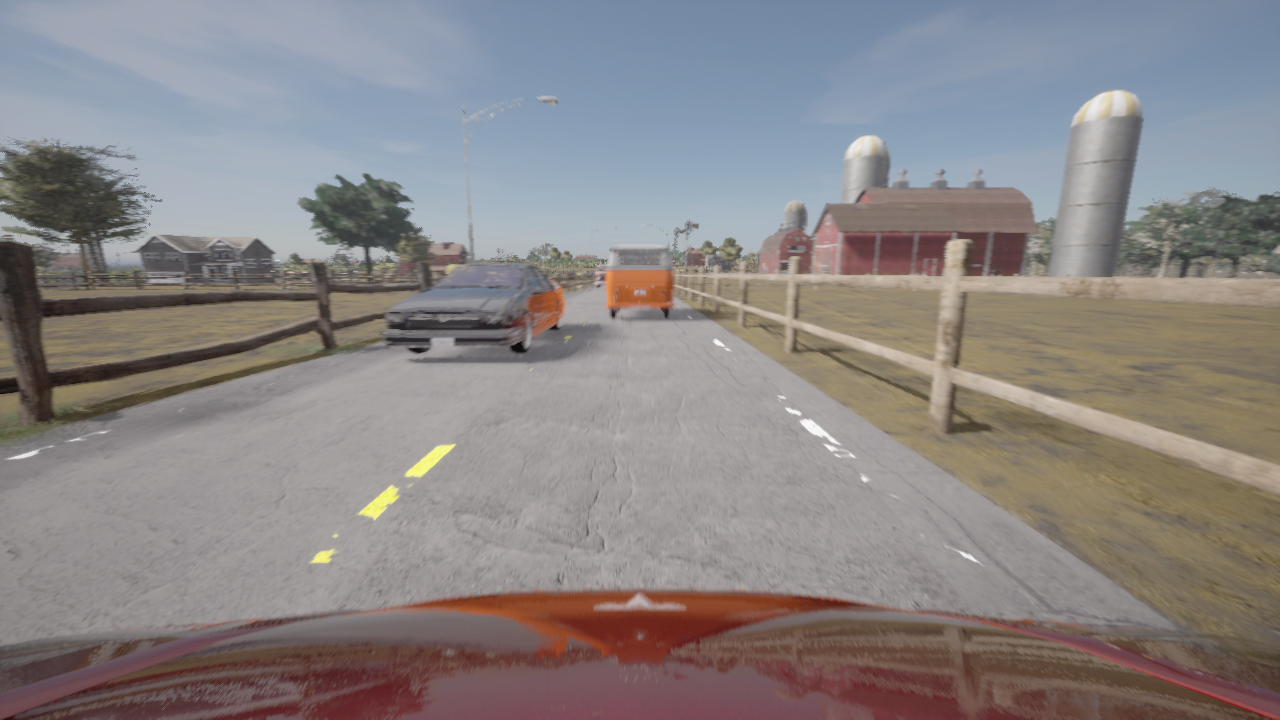cyclist: (0, 588, 1279, 719), (380, 263, 564, 353), (606, 244, 673, 317), (594, 264, 607, 288)
